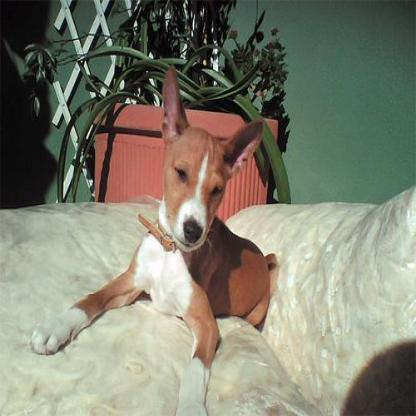basenji: (26, 63, 278, 414)
